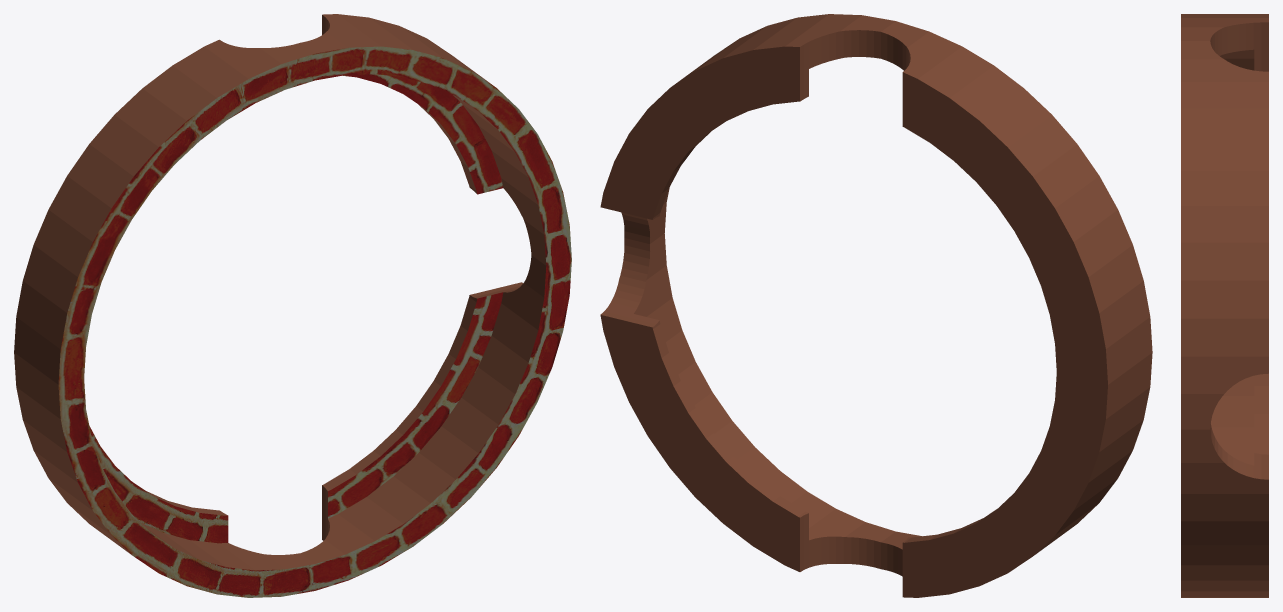
Rendered from pool_079.obj.
3 views of the same model, side by side, from view 1: azimuth 30°, elevation 25°; view 2: azimuth 150°, elevation 25°; view 3: azimuth 270°, elevation 25° (orthographic).
Size of the model in its own units: 20 by 20 by 3.
